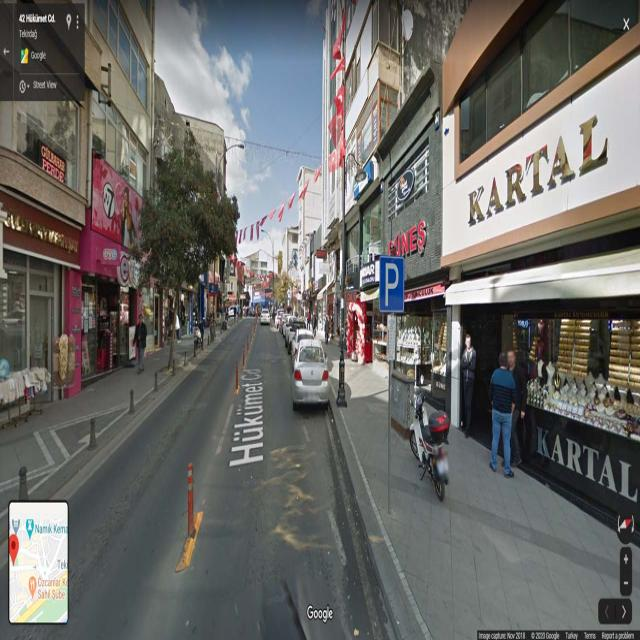park: (378, 257, 404, 312)
